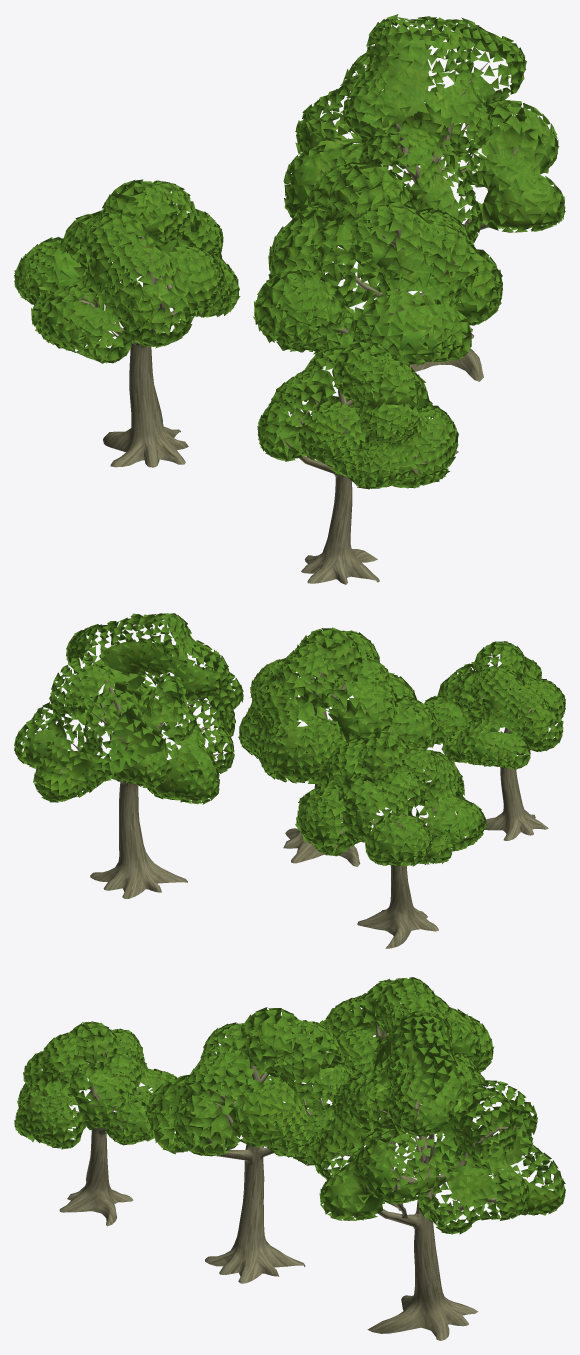
Rendered from SM_ENV_LKNVLD_TreeSet_A.FBX.
3 views of the same model, one above another, from view 1: azimuth 30°, elevation 25°; view 2: azimuth 150°, elevation 25°; view 3: azimuth 270°, elevation 25° (orthographic). The views are drawn at different scales.
Parts seen in each view (by area): view 1: SM_ENV_LKNVLD_TreeSet_A; view 2: SM_ENV_LKNVLD_TreeSet_A; view 3: SM_ENV_LKNVLD_TreeSet_A.
Part boxes in pixels (x1,y1,x2,y2): SM_ENV_LKNVLD_TreeSet_A: [14, 14, 565, 584]; SM_ENV_LKNVLD_TreeSet_A: [14, 613, 565, 948]; SM_ENV_LKNVLD_TreeSet_A: [14, 977, 565, 1340].
Bounding box in the file's own units: 1952 × 1236 × 2059.
